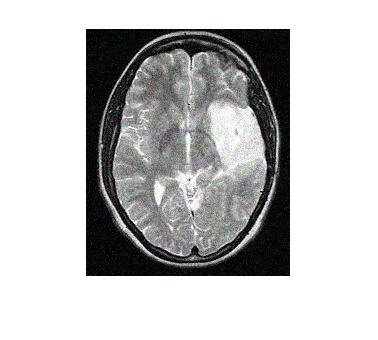Brain_Cancer: (207, 102, 266, 171)
